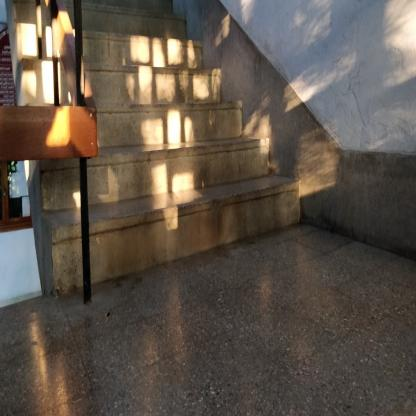stairs: (102, 85, 219, 301)
